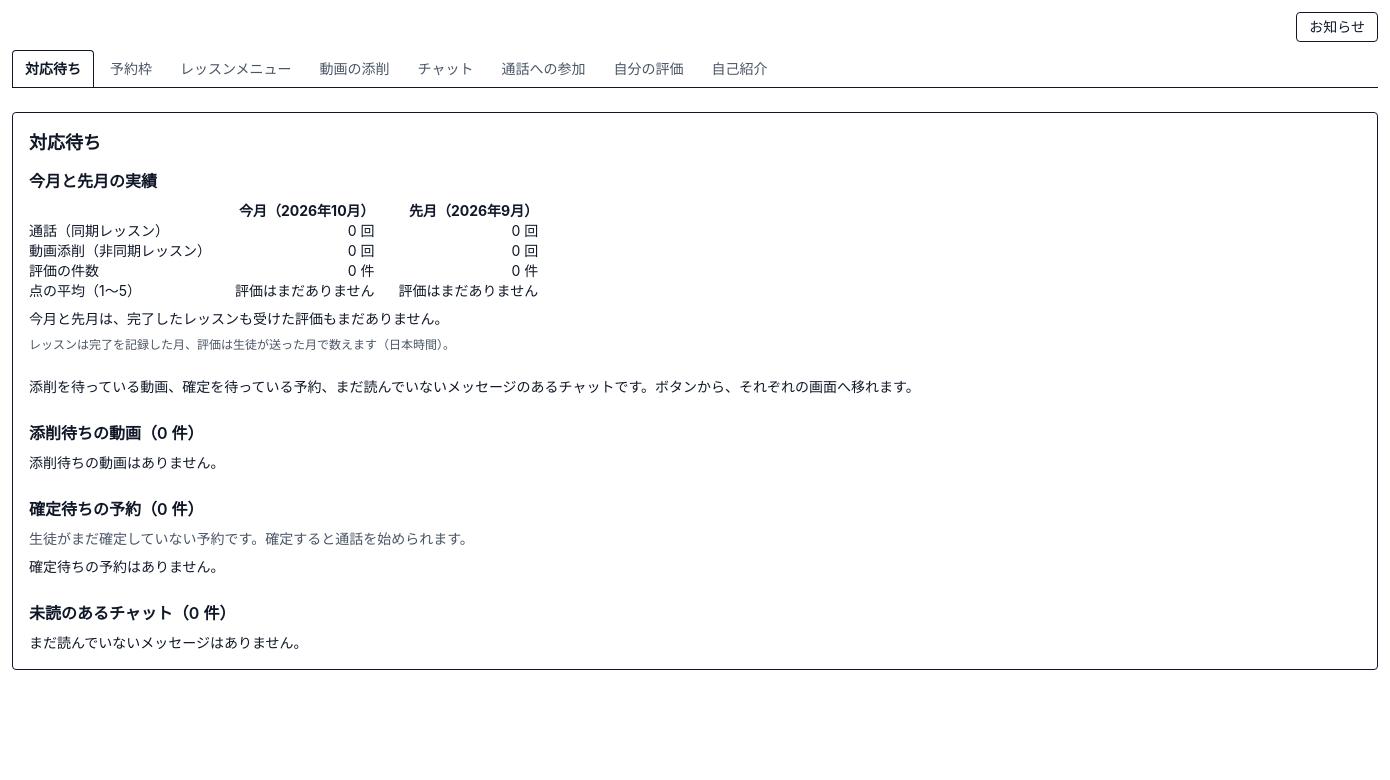
Test: コーチのお知らせ › お知らせがなければない旨を出す
Click the button "お知らせ" at (1337, 27), box [1296,12,1378,42]
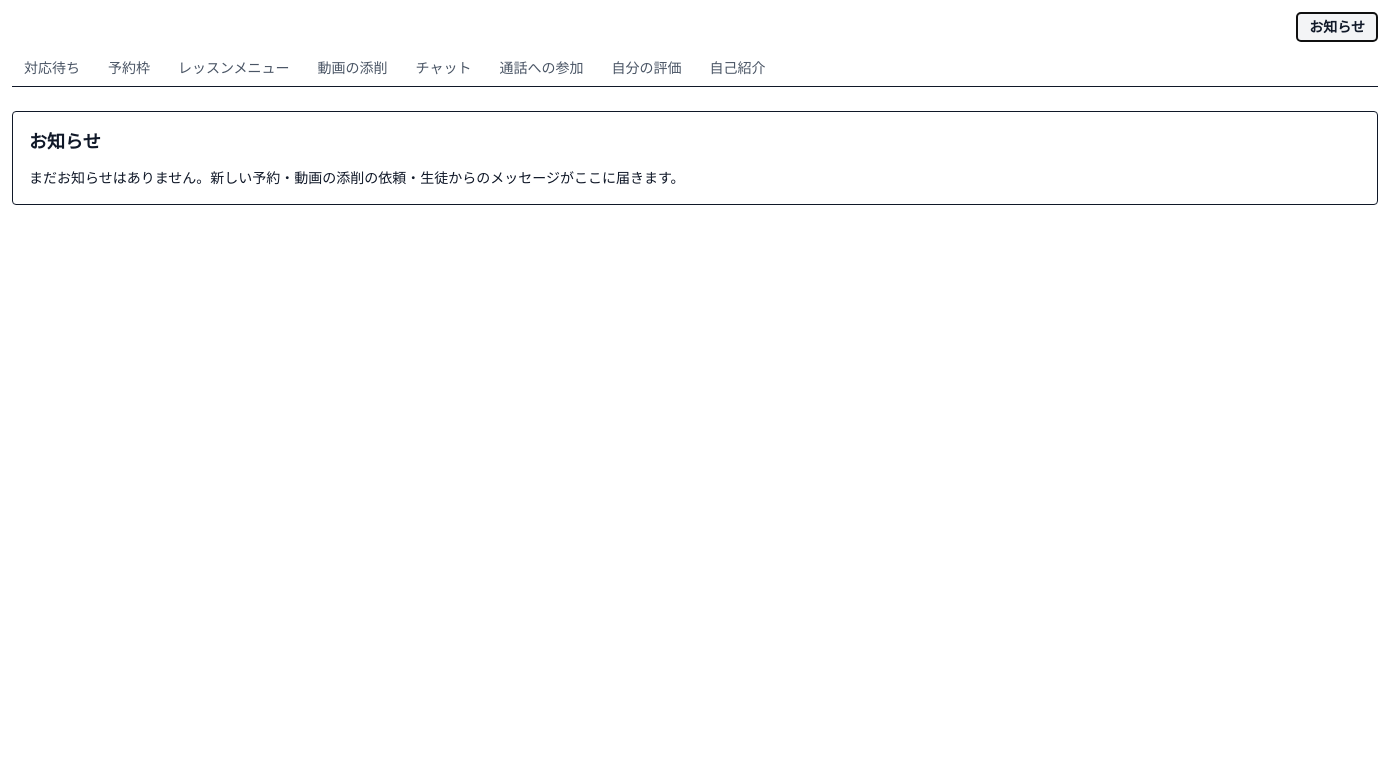
Result: the text "まだお知らせはありません。新しい予約・動画の添削の依頼・生徒からのメッセージがここに届きます。" is shown at [29,169,685,186]
